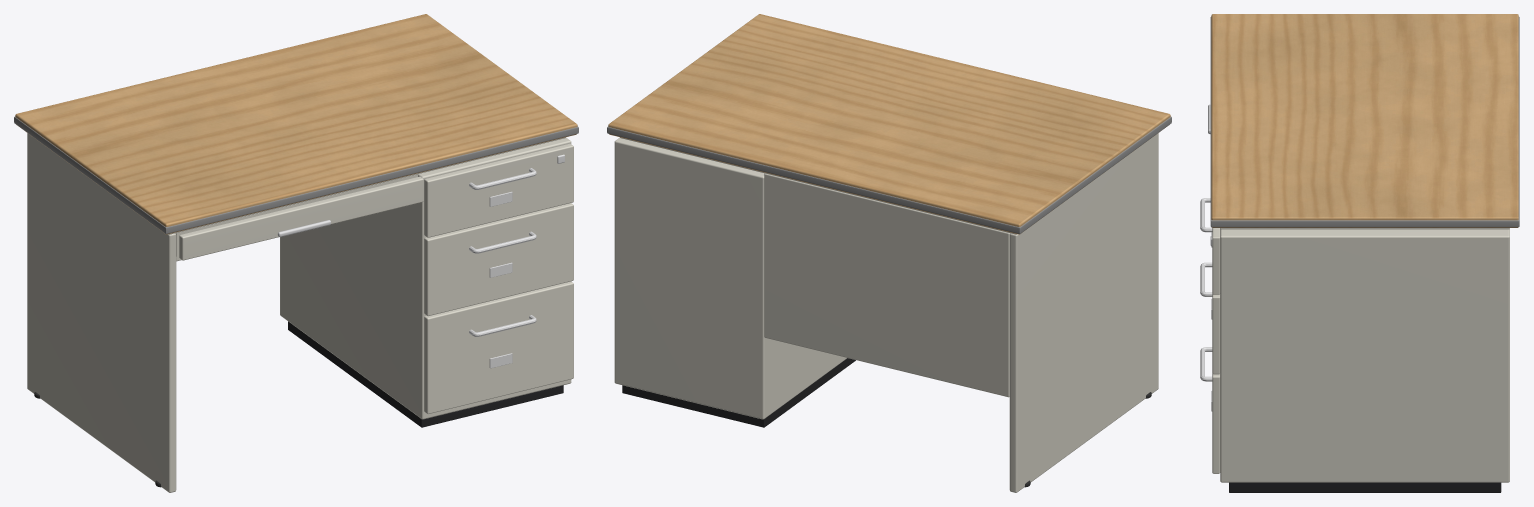
File: teacher_desk.glb
The picture shows the model from 3 angles, left to right: view 1: azimuth 30°, elevation 25°; view 2: azimuth 150°, elevation 25°; view 3: azimuth 270°, elevation 25°; orthographic projection.
Visible parts, largest first — view 1: teacher_desk; view 2: teacher_desk; view 3: teacher_desk.
Boxes of the visible parts, x1,y1,x2,y2 form: teacher_desk: [14, 14, 578, 492]; teacher_desk: [607, 14, 1171, 492]; teacher_desk: [1200, 14, 1519, 492].
Size of the model in its own units: 1.1 by 0.7 by 0.7275.
Materials: 6 (1 with a texture image).
